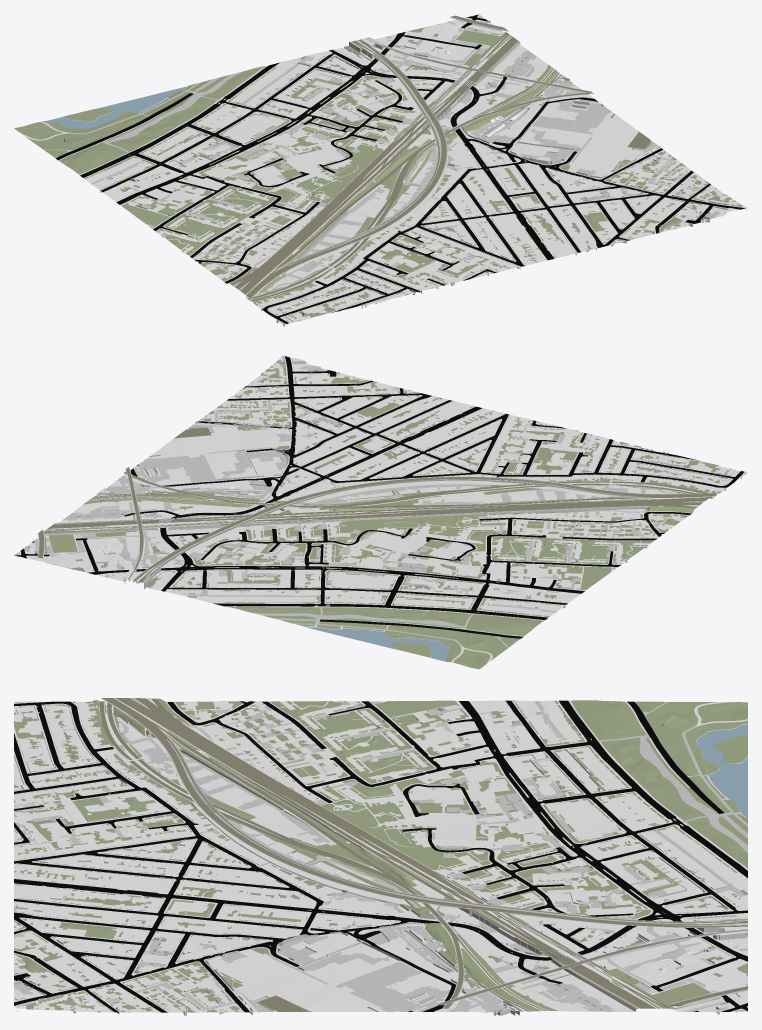
File: TQ2876_Terrain_LOD_1_draco.glb
3 renders of one model, top to bottom at view 1: azimuth 30°, elevation 25°; view 2: azimuth 150°, elevation 25°; view 3: azimuth 270°, elevation 25°, orthographic. The views are drawn at different scales.
Visible parts, largest first — view 1: TQ2876_Terrain; view 2: TQ2876_Terrain; view 3: TQ2876_Terrain.
Part boxes in pixels (x1,y1,x2,y2): TQ2876_Terrain: (14, 14, 747, 326); TQ2876_Terrain: (14, 355, 747, 669); TQ2876_Terrain: (14, 698, 747, 1015).
Bounding box in the file's own units: 1000 × 18.74 × 1000.
1 material, 1 textured.
